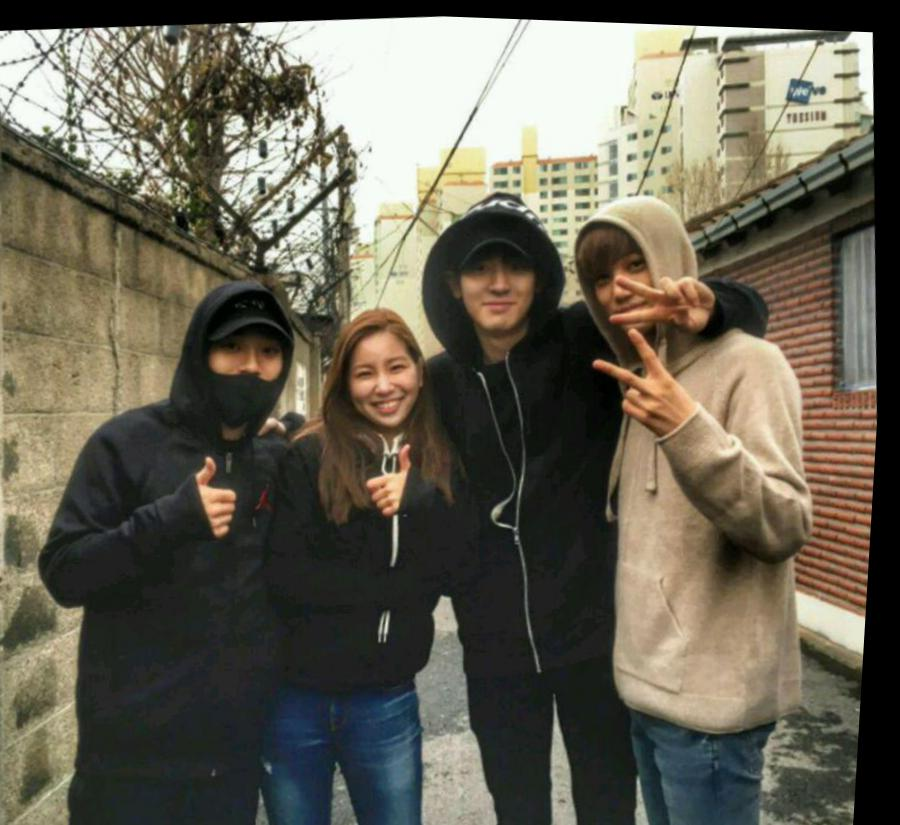NONE: (463, 244, 537, 328), (349, 343, 423, 425), (592, 249, 663, 329)
WRONG: (197, 323, 295, 420)
